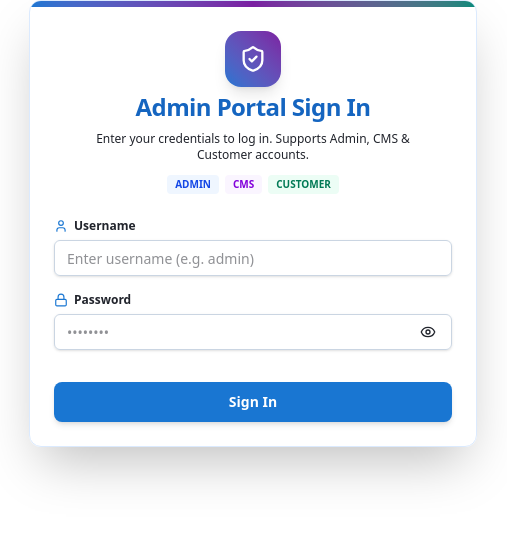
Test: LoginForm › displays error banner when authentication fails
Type "invaliduser" into the field labelled "Username".
click(253, 258); type("invaliduser")  # box [54, 240, 452, 276]
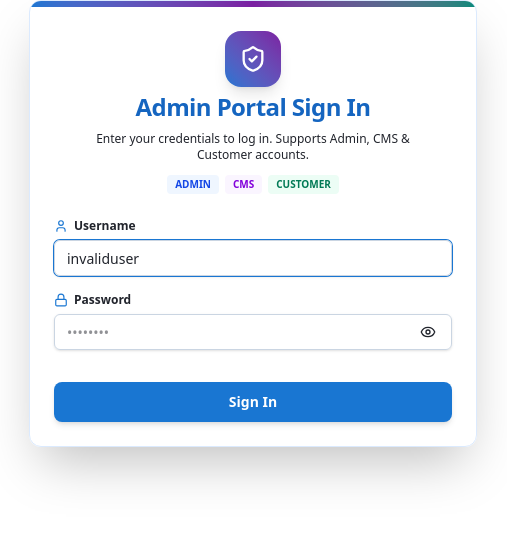
Type "wrongpass" into the password field labelled "Password".
click(253, 332); type("wrongpass")  # box [54, 314, 452, 350]
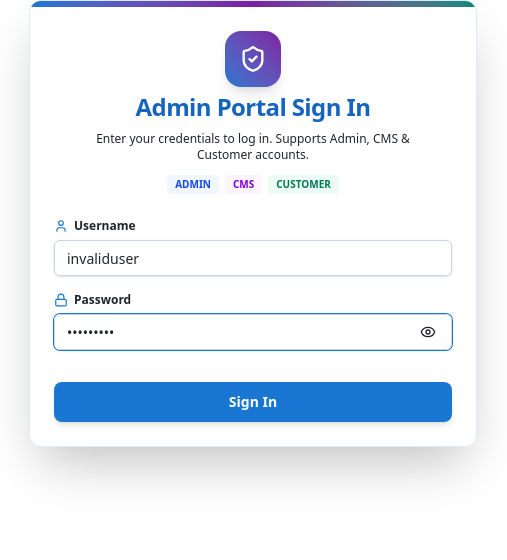
Click the button "Sign In".
click(253, 402)  # box [54, 382, 452, 422]
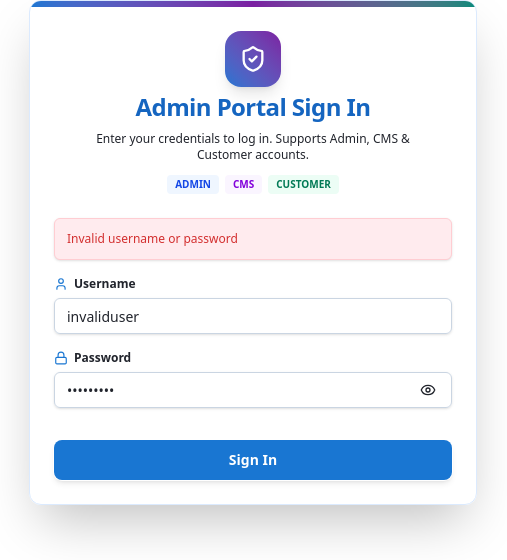
Check: the message "Invalid username or password" is shown, box [54, 218, 452, 260]
Check: the text "Invalid username or password" is shown, box [67, 231, 238, 247]
